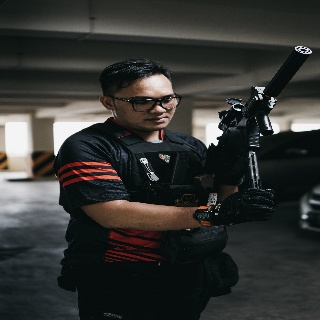rifle: (198, 44, 313, 200)
